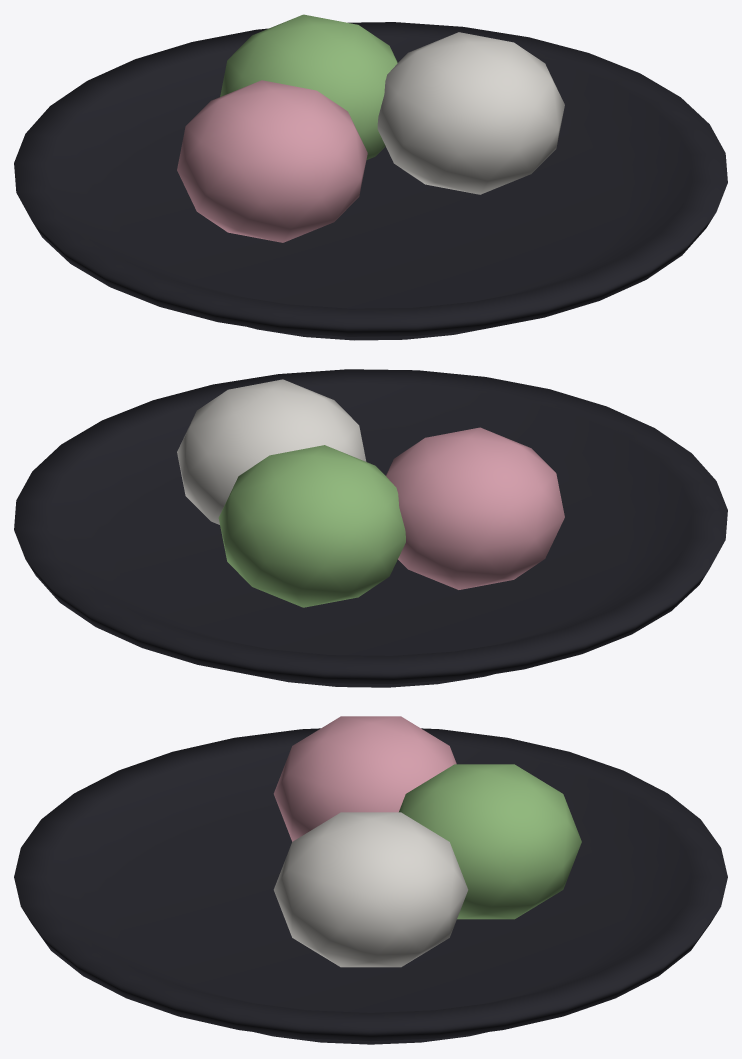
Rendered from item_dish_mochi.glb.
3 renders of one model, top to bottom at view 1: azimuth 30°, elevation 25°; view 2: azimuth 150°, elevation 25°; view 3: azimuth 270°, elevation 25°, orthographic.
Visible parts, largest first — view 1: item_dish_mochi_main; view 2: item_dish_mochi_main; view 3: item_dish_mochi_main.
Boxes of the visible parts, <box> form: item_dish_mochi_main: <box>14,14,727,340</box>; item_dish_mochi_main: <box>14,369,727,687</box>; item_dish_mochi_main: <box>14,716,727,1044</box>.
Bounding box in the file's own units: 0.22 × 0.056 × 0.22.
